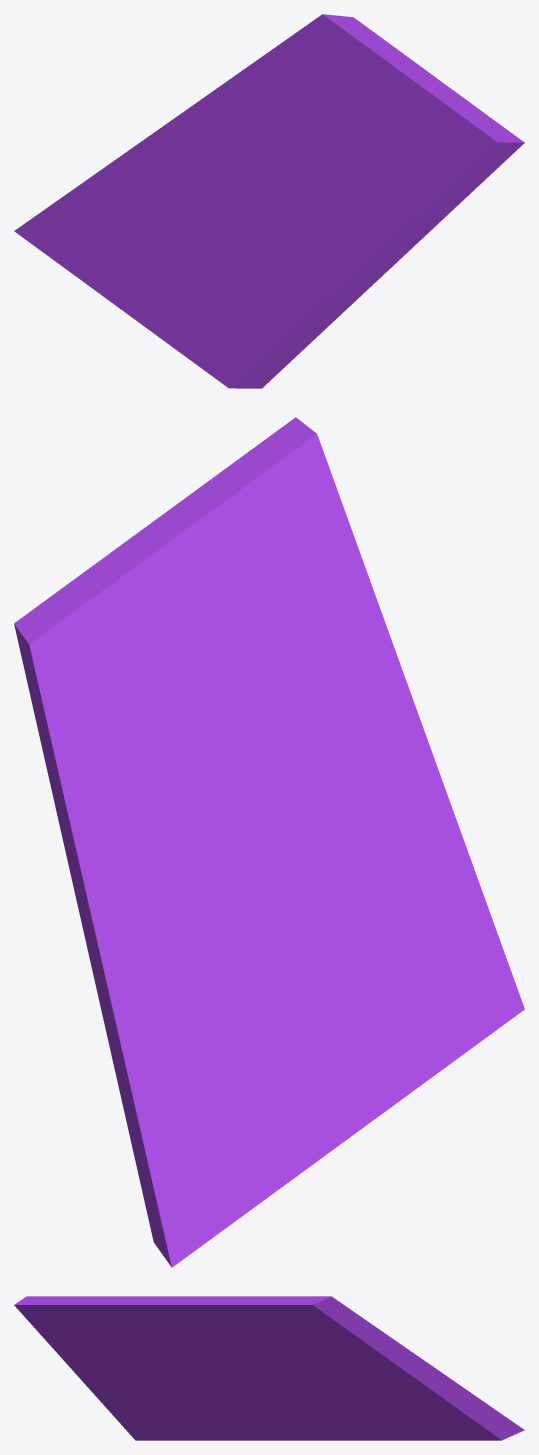
Rendered from Window_67_chunks.fbx.
The picture shows the model from 3 angles, top to bottom: view 1: azimuth 30°, elevation 25°; view 2: azimuth 150°, elevation 25°; view 3: azimuth 270°, elevation 25°; orthographic projection. The views are drawn at different scales.
Visible parts, largest first — view 1: Window_67_0, Window_67_1, Window_67_2, Window_67_3; view 2: Window_67_1, Window_67_0, Window_67_2, Window_67_3; view 3: Window_67_0, Window_67_1, Window_67_2, Window_67_3.
Boxes of the visible parts, x1,y1,x2,y2 form: Window_67_0: (274,57,524,349); Window_67_1: (14,193,302,388); Window_67_2: (143,14,408,171); Window_67_3: (68,140,288,202); Window_67_1: (120,830,524,1267); Window_67_0: (105,417,481,890); Window_67_2: (14,557,240,1092); Window_67_3: (112,789,278,1157); Window_67_0: (14,1296,245,1419); Window_67_1: (117,1376,524,1440); Window_67_2: (216,1296,458,1407); Window_67_3: (444,1374,490,1406).
Bounding box in the file's own units: 756 × 829 × 1764.
